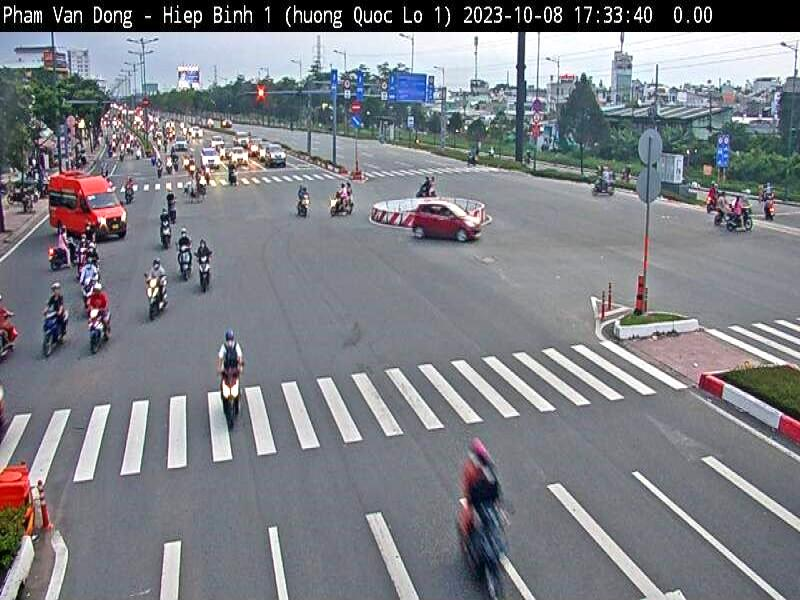car: (44, 163, 128, 252), (408, 197, 477, 253)
